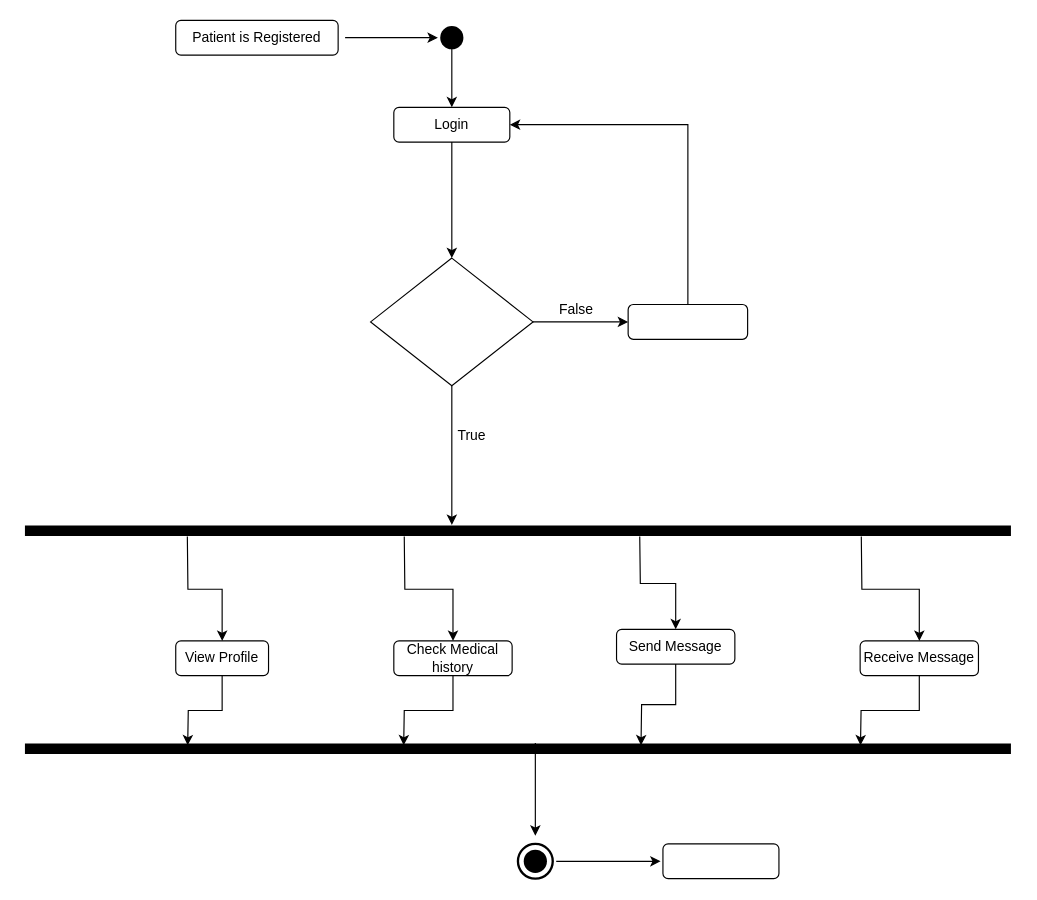
Some shapes in this 1037 by 900 pixel diagram are drawn without their labels. Each missing label, with the centre of its shape:
"if user is an admin" goes at [451,321].
"invalid login" goes at [687,321].
"Logout" goes at [720,861].
